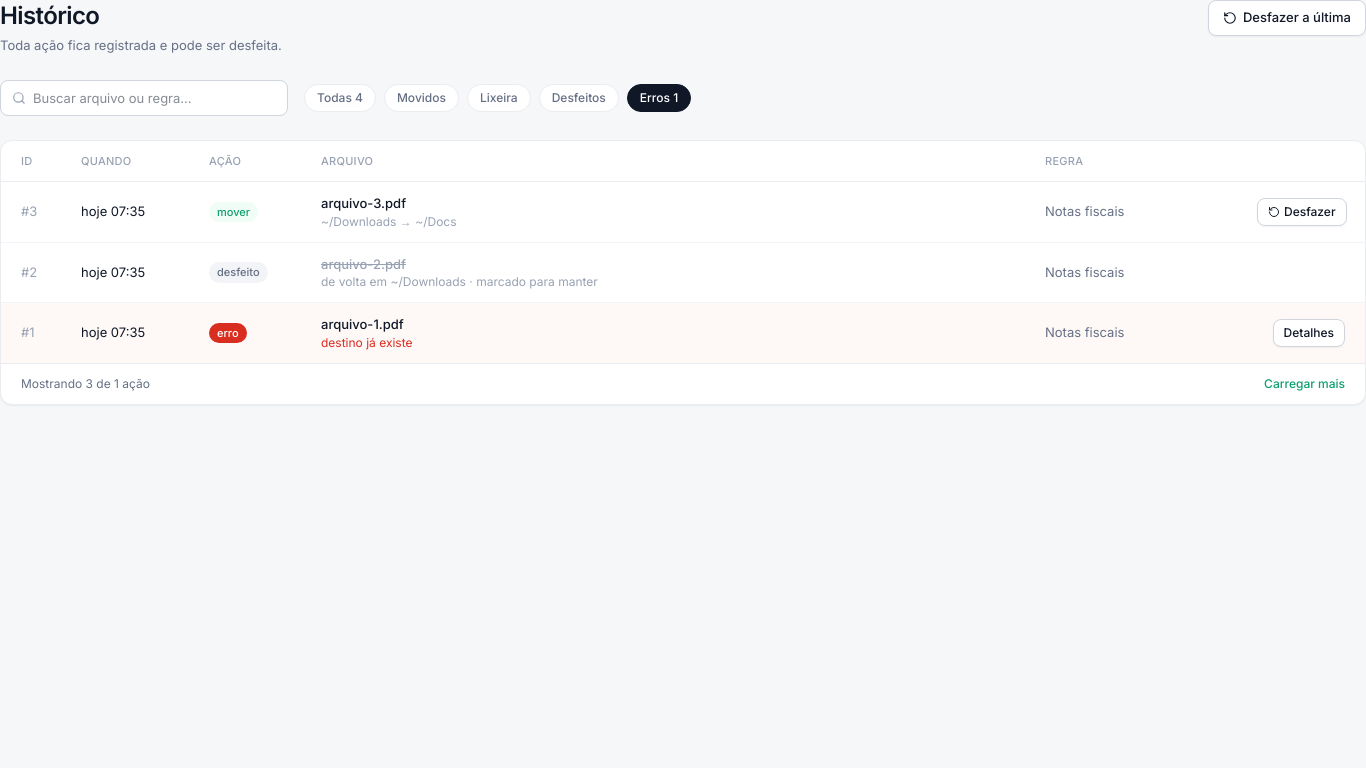
Test: History › details shows the error
This screenshot has width=1366, height=768.
Click the button "Detalhes".
click(1309, 333)  # box x1=1273 y1=319 x2=1345 y2=347
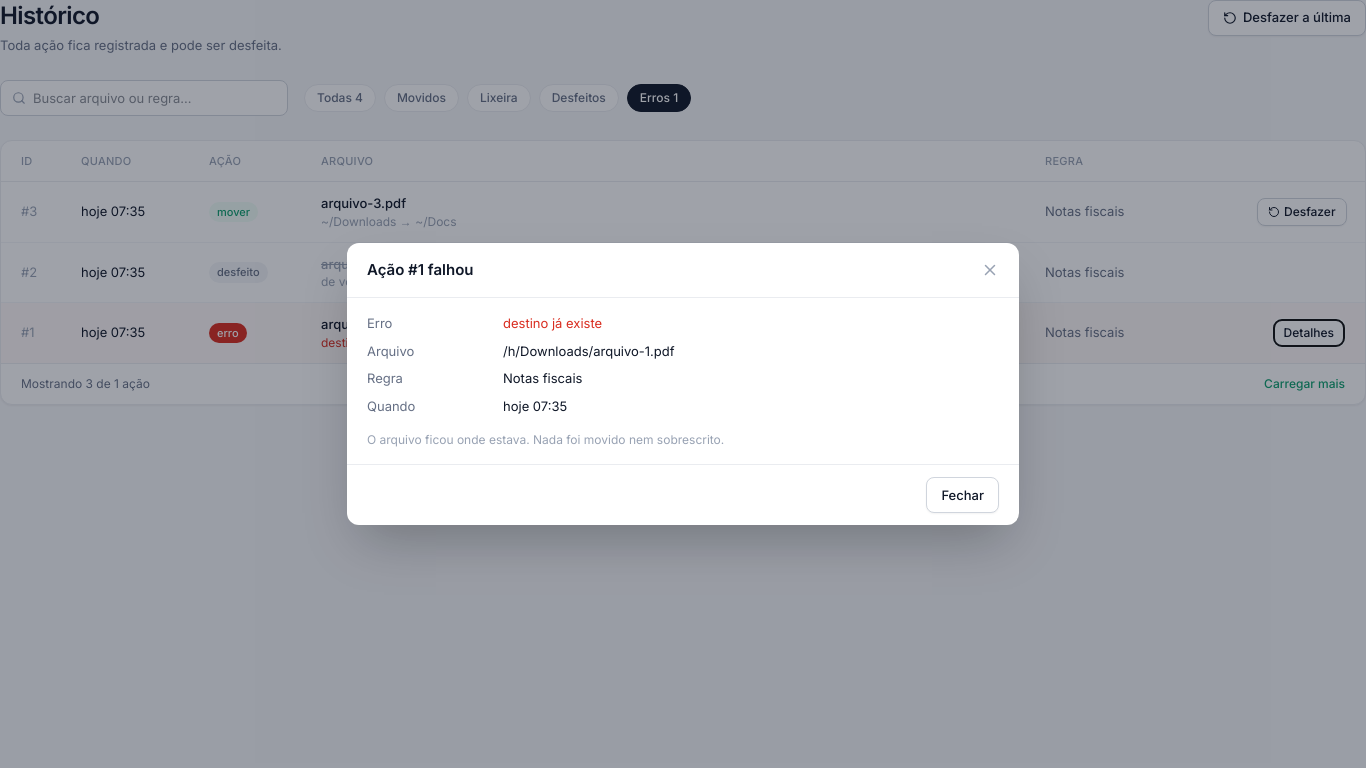
Result: the dialog shows "destino já existe" at x1=503 y1=315 x2=602 y2=331
